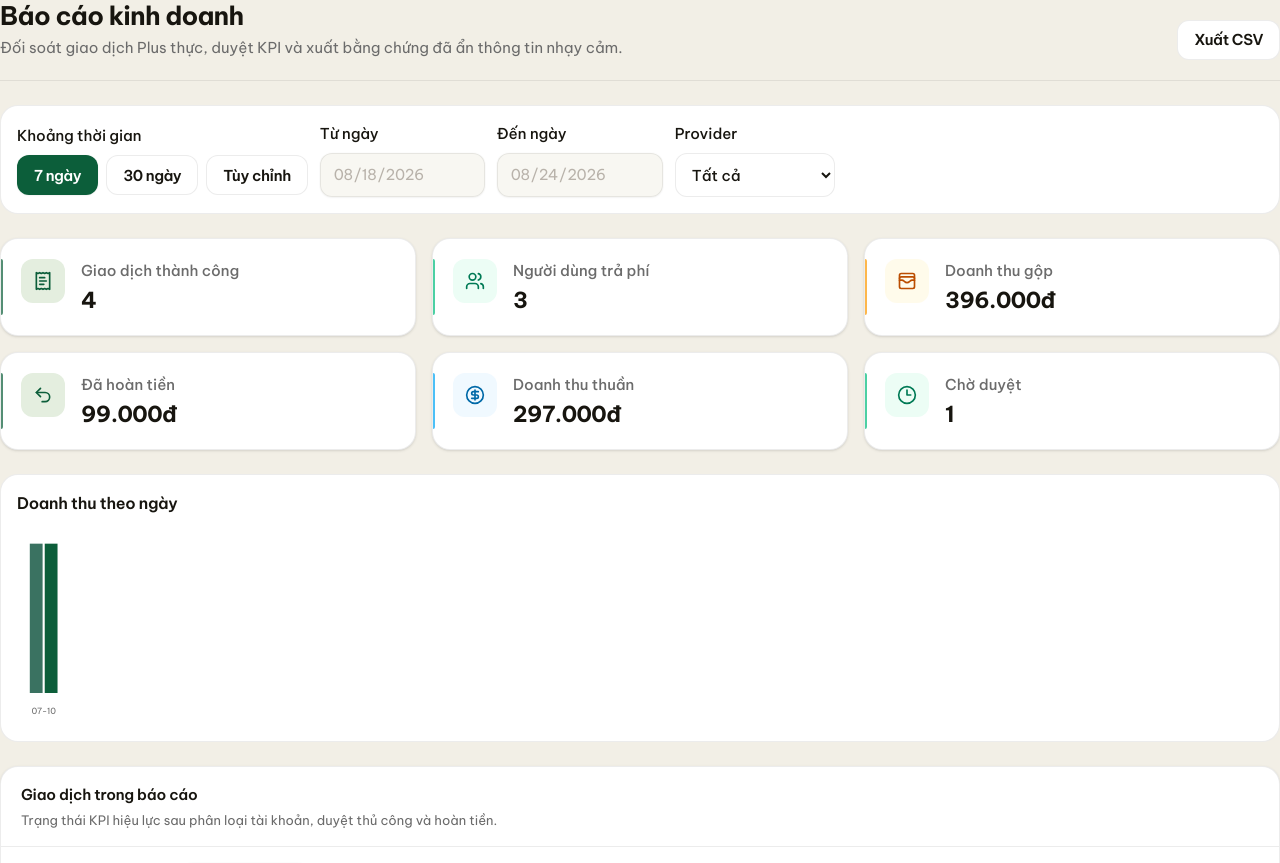
AdminSalesReportPage › hides a previous report when the active filter request fails
Select "payos" in the dropdown labelled "Provider" at (755, 175), box 675,153 -> 835,197
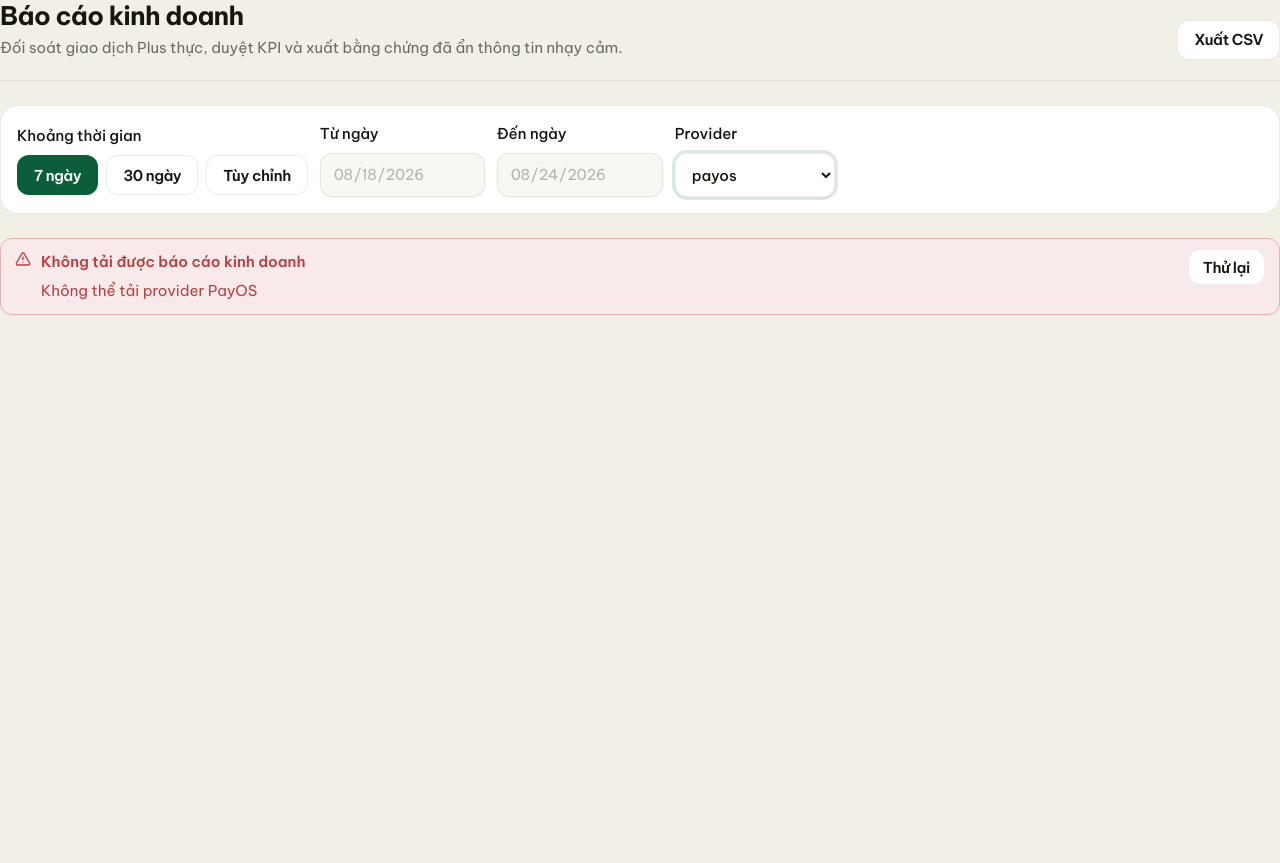
Check: the message shows "Không thể tải provider PayOS", box 41,281 -> 257,300
Check: the text "N*** A***" is not shown
